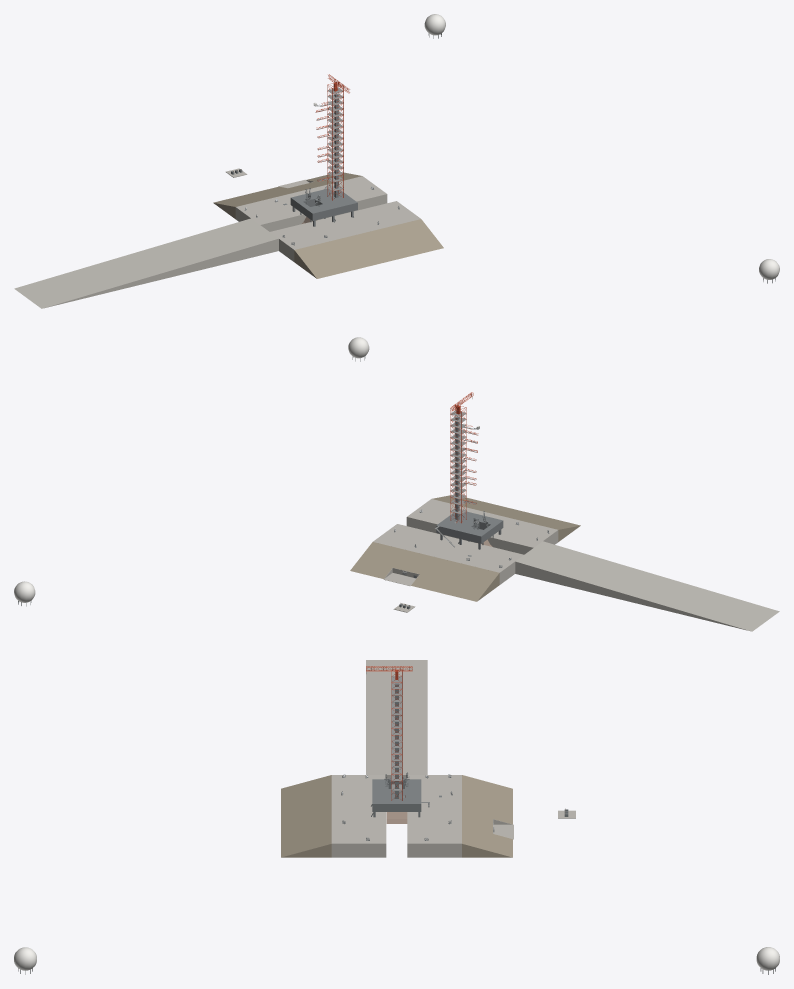
File: pad-a-1972-12.lod2.glb
3 renders of one model, top to bottom at view 1: azimuth 30°, elevation 25°; view 2: azimuth 150°, elevation 25°; view 3: azimuth 270°, elevation 25°, orthographic. The views are drawn at different scales.
Visible parts, largest first — view 1: Hardstand_Concrete, Hardstand_Earth, Launcher_Base_Steel, Umbilical_Tower_Deck, Umbilical_Tower_Red, Storage_Spheres_White; view 2: Hardstand_Concrete, Hardstand_Earth, Launcher_Base_Steel, Umbilical_Tower_Deck, Umbilical_Tower_Red, Storage_Spheres_White; view 3: Hardstand_Concrete, Hardstand_Earth, Launcher_Base_Steel, Umbilical_Tower_Deck, Storage_Spheres_White, Umbilical_Tower_Red.
Part boxes in pixels (x1,y1,x2,y2): Hardstand_Concrete: [14, 176, 420, 308]; Hardstand_Earth: [213, 172, 443, 278]; Launcher_Base_Steel: [290, 189, 357, 220]; Umbilical_Tower_Deck: [327, 87, 343, 191]; Umbilical_Tower_Red: [327, 82, 343, 200]; Storage_Spheres_White: [424, 14, 779, 279]; Hardstand_Concrete: [373, 499, 779, 631]; Hardstand_Earth: [350, 495, 580, 601]; Launcher_Base_Steel: [436, 511, 503, 543]; Umbilical_Tower_Deck: [450, 410, 466, 514]; Umbilical_Tower_Red: [450, 405, 466, 523]; Storage_Spheres_White: [14, 337, 369, 602]; Hardstand_Concrete: [331, 660, 512, 857]; Hardstand_Earth: [281, 775, 512, 857]; Launcher_Base_Steel: [372, 779, 421, 811]; Umbilical_Tower_Deck: [391, 676, 402, 790]; Storage_Spheres_White: [14, 947, 779, 970]; Umbilical_Tower_Red: [391, 669, 402, 800].
Size of the model in its own units: 630 by 149 by 644.
